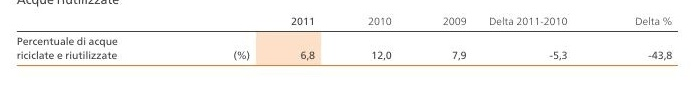table: (0, 0, 699, 85)
